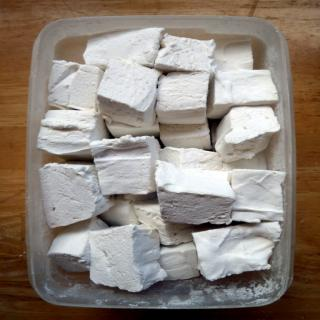Cheese: (37, 23, 278, 293)
